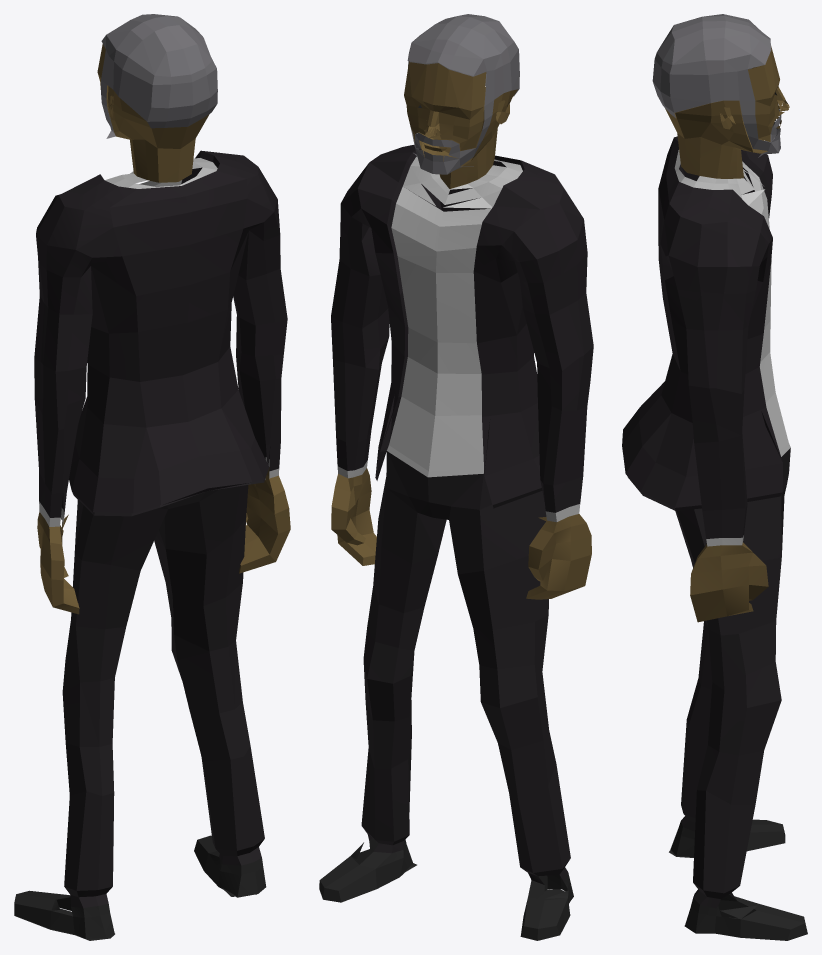
The model's file is person_4_idle.fbx.
3 renders of one model, left to right at view 1: azimuth 30°, elevation 25°; view 2: azimuth 150°, elevation 25°; view 3: azimuth 270°, elevation 25°, orthographic.
Parts seen in each view (by area): view 1: BaseHuman; view 2: BaseHuman; view 3: BaseHuman.
Part boxes in pixels (box(x1,y1,x2,y2)): BaseHuman: box(14, 14, 290, 940); BaseHuman: box(319, 14, 593, 940); BaseHuman: box(622, 14, 807, 940).
Size of the model in its own units: 0.2885 by 0.9985 by 0.1938.
